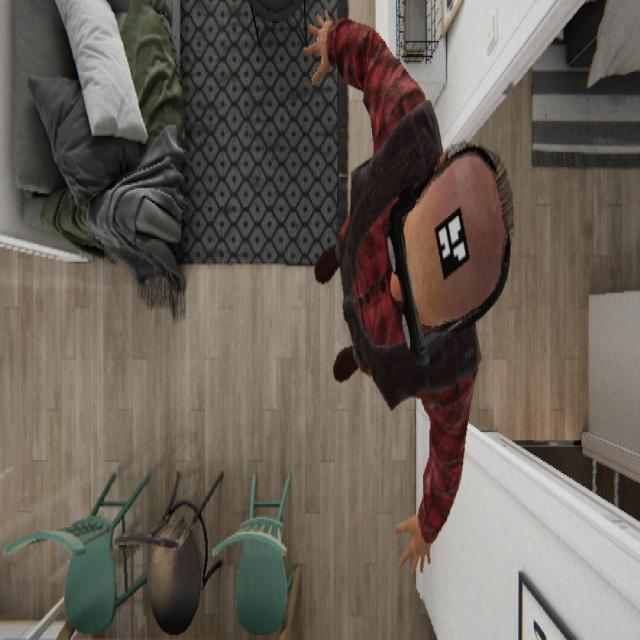AruCO: (433, 203, 470, 280)
Human: (302, 6, 513, 578)
